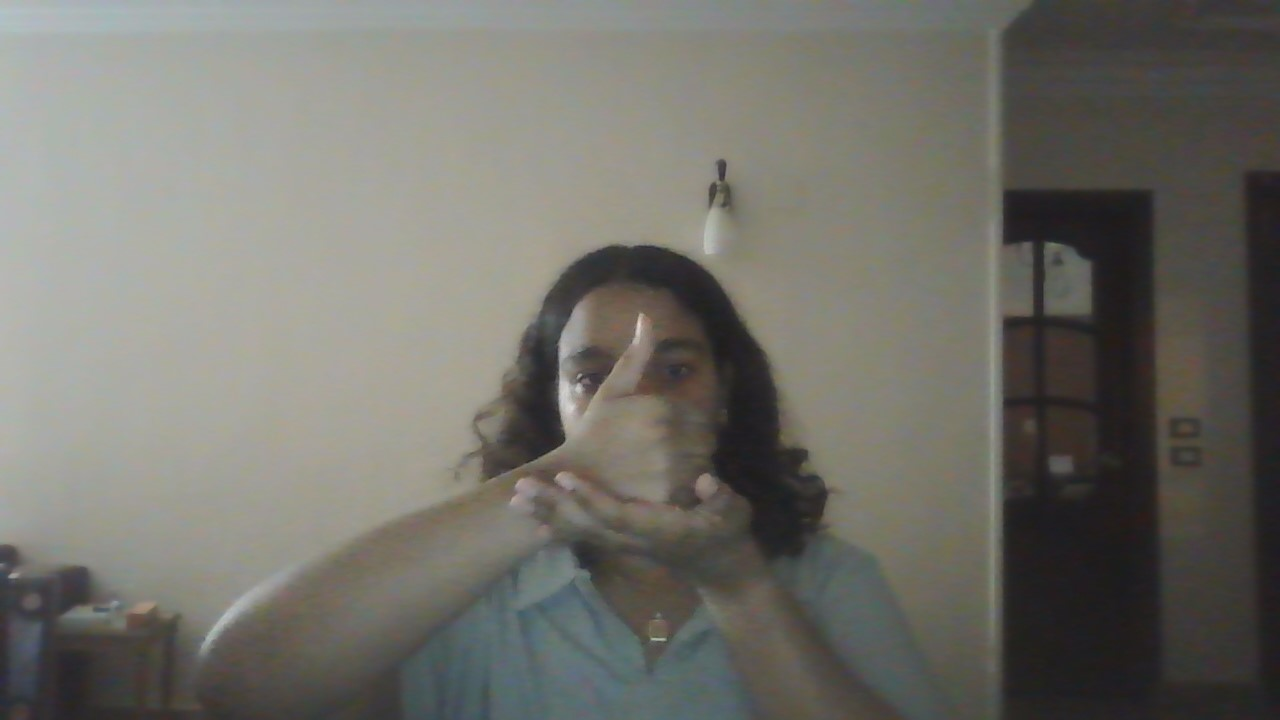help: (493, 295, 850, 574)
